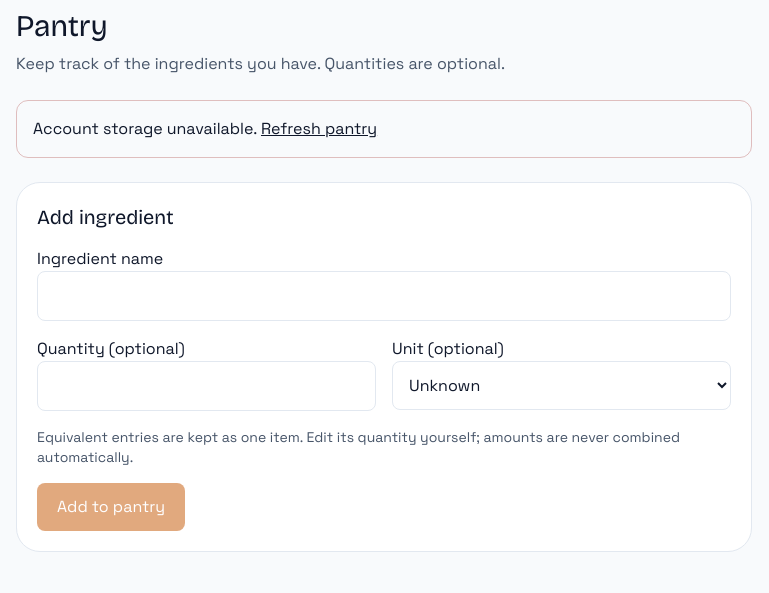
Scenario: failed list can be refreshed
Expected: the message "Account storage unavailable. Refresh pantry" is shown, [16, 100, 752, 158]
Click the button "Refresh pantry".
click(319, 129)  # box [261, 117, 377, 141]
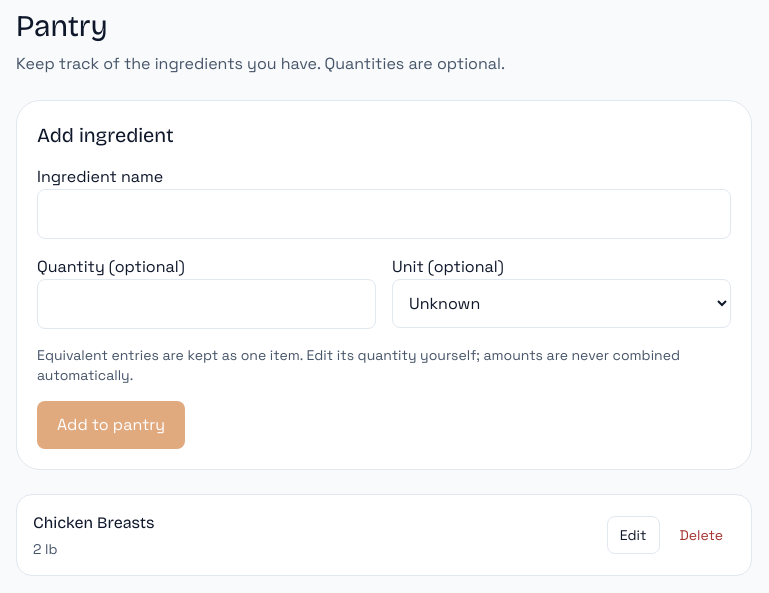
Result: the heading "Chicken Breasts" is shown at [33, 513, 154, 532]
Result: the message "Account storage unavailable. Refresh pantry" is gone
